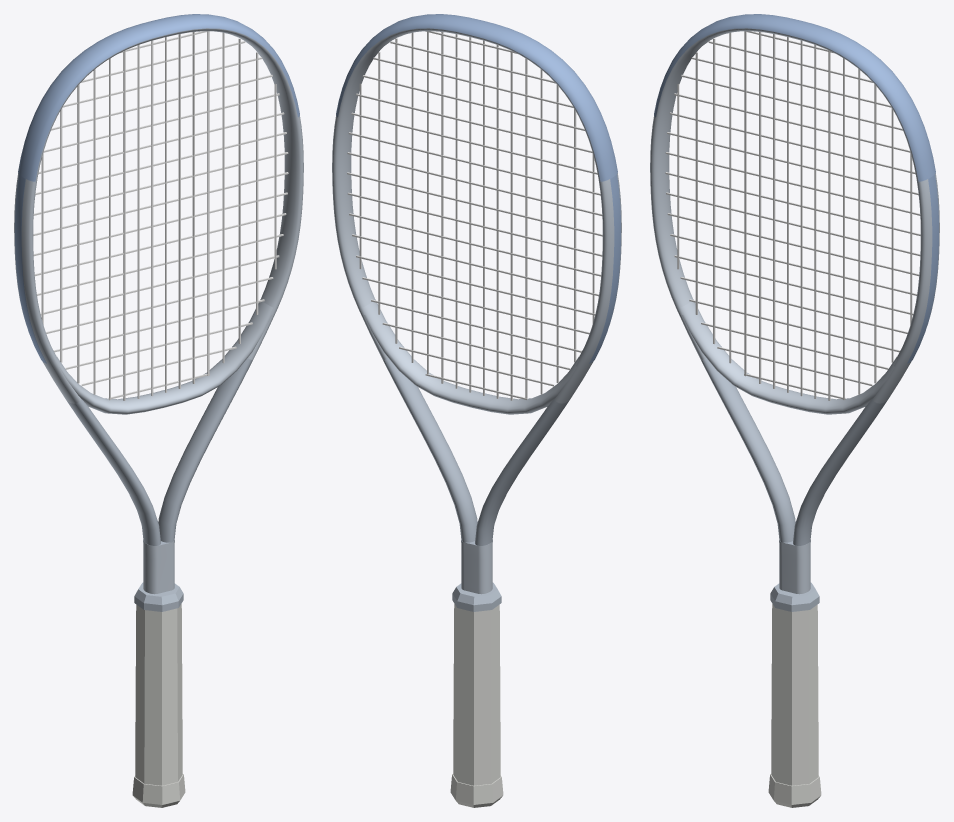
File: yonex-muse-100l-2026.glb
3 renders of one model, left to right at view 1: azimuth 30°, elevation 25°; view 2: azimuth 150°, elevation 25°; view 3: azimuth 330°, elevation 25°, orthographic.
Parts seen in each view (by area): view 1: frame, strings_mains, strings_crosses, grip, bumper, grommets, butt_cap, collar; view 2: frame, strings_mains, strings_crosses, grip, bumper, grommets, butt_cap, collar; view 3: frame, strings_mains, strings_crosses, grip, bumper, grommets, butt_cap, collar.
Part boxes in pixels (bbox=[...]): frame: bbox=[14, 28, 303, 594]; strings_mains: bbox=[41, 31, 276, 400]; strings_crosses: bbox=[33, 31, 288, 399]; grip: bbox=[135, 604, 182, 785]; bumper: bbox=[18, 14, 299, 181]; grommets: bbox=[15, 174, 46, 363]; butt_cap: bbox=[132, 774, 185, 807]; collar: bbox=[134, 582, 183, 611]; frame: bbox=[332, 28, 621, 594]; strings_mains: bbox=[359, 32, 594, 400]; strings_crosses: bbox=[347, 31, 602, 399]; grip: bbox=[453, 604, 500, 785]; bumper: bbox=[336, 14, 617, 181]; grommets: bbox=[589, 174, 620, 363]; butt_cap: bbox=[450, 774, 503, 807]; collar: bbox=[452, 582, 501, 611]; frame: bbox=[650, 28, 939, 594]; strings_mains: bbox=[677, 31, 912, 400]; strings_crosses: bbox=[665, 31, 920, 399]; grip: bbox=[771, 604, 818, 785]; bumper: bbox=[654, 14, 935, 181]; grommets: bbox=[907, 174, 938, 363]; butt_cap: bbox=[768, 774, 821, 807]; collar: bbox=[770, 582, 819, 611].
Bounding box in the file's own units: 0.2618 × 0.6861 × 0.0396.
